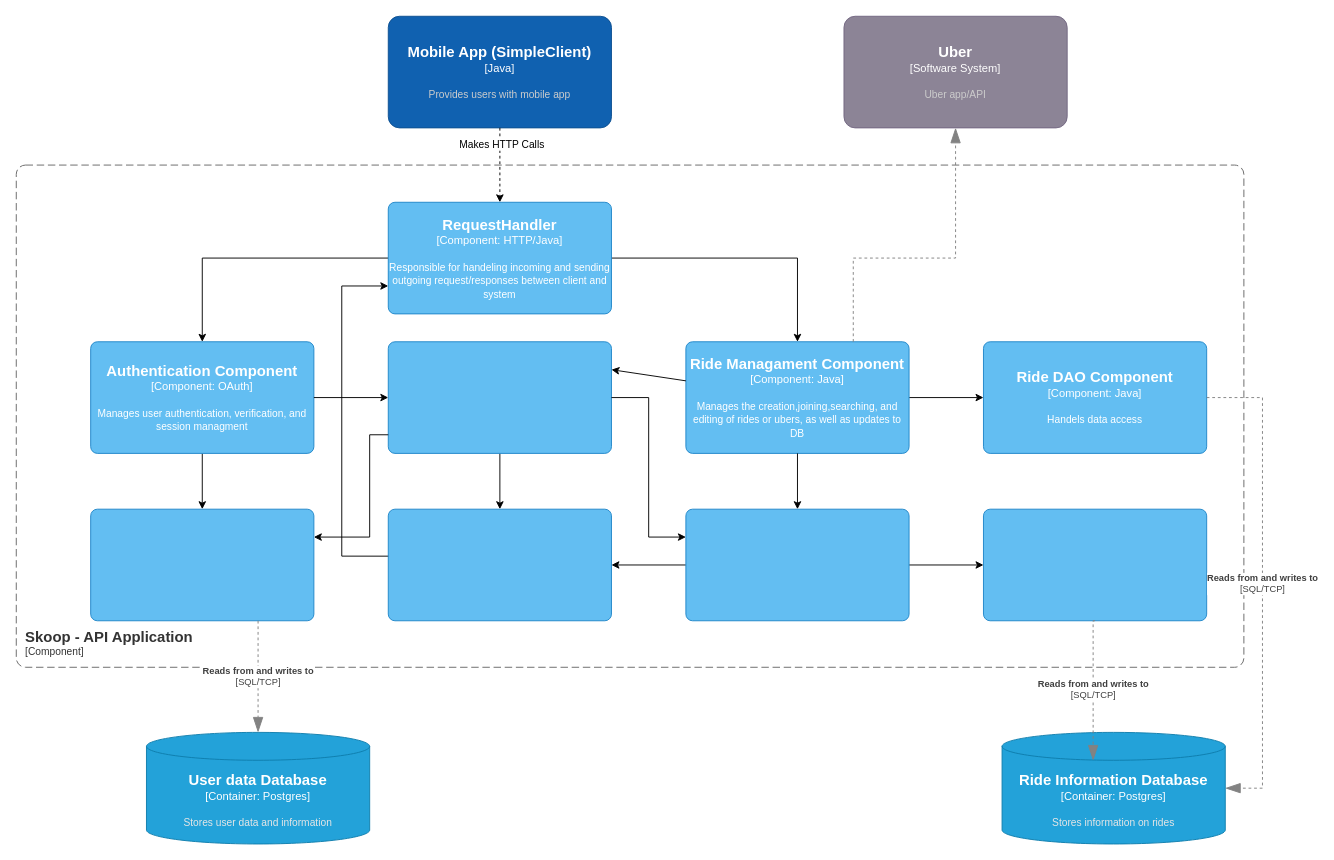
Image size: 1334x860. Some labels were removed from this diagram. The centre of each missing label's shape, as x and y in pixels:
"Chat DAO Component [Component: Java] Handels data access" goes at [1095,564].
"Chat/Messaging Component [Component: Java] Manages chat/messaging between users" goes at [797,564].
"Notification Component [Component: Java] Manages sending notifications to users" goes at [499,564].
"User DAO Component [Component: Java] Handels data access" goes at [202,564].
"User Profile Component [Component: Java] Manages basic user information" goes at [499,397].
